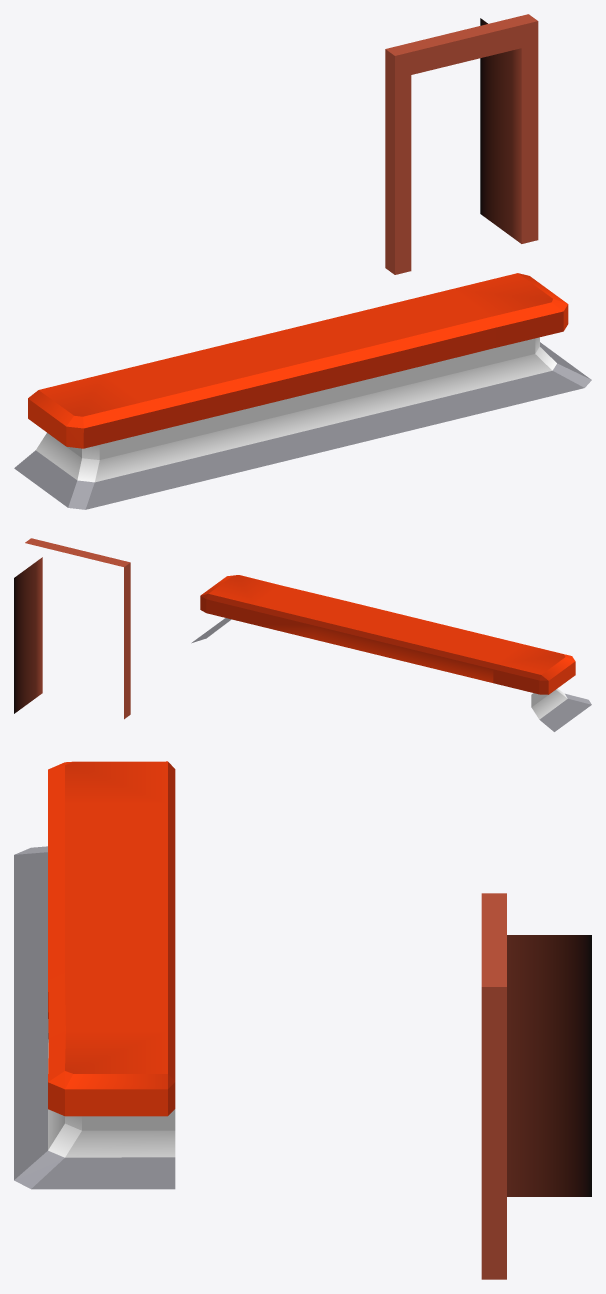
The model's file is hgss-piece-221-mur-mezzanine-ouest.glb.
The picture shows the model from 3 angles, top to bottom: view 1: azimuth 30°, elevation 25°; view 2: azimuth 150°, elevation 25°; view 3: azimuth 270°, elevation 25°; orthographic projection. The views are drawn at different scales.
Bounding box in the file's own units: 7.25 × 2.38 × 4.25.
Materials: 4 (4 with a texture image).
